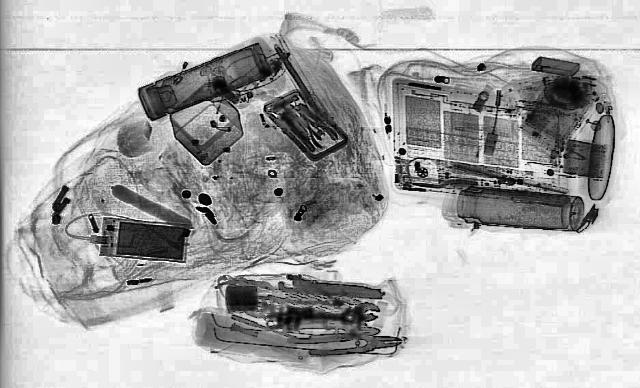Pliers: (304, 330, 401, 356), (287, 110, 345, 148)
Wrench: (283, 300, 379, 320)
